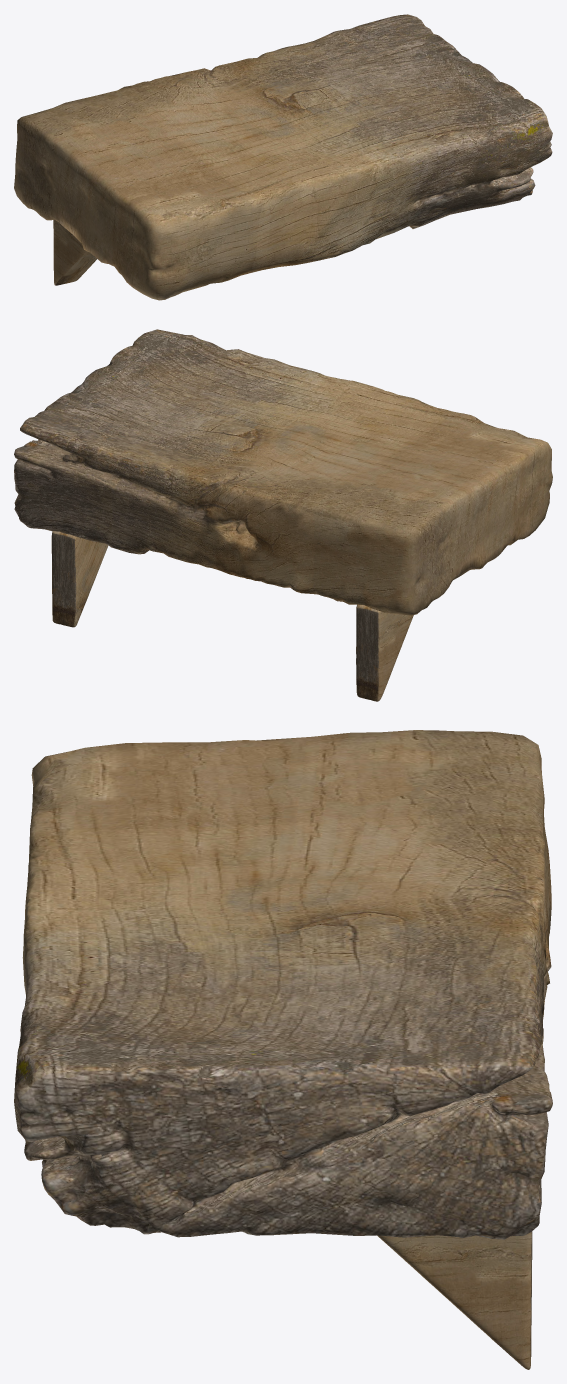
Rendered from chunkyboi.glb.
3 views of the same model, one above another, from view 1: azimuth 30°, elevation 25°; view 2: azimuth 150°, elevation 25°; view 3: azimuth 270°, elevation 25° (orthographic). The views are drawn at different scales.
Visible parts, largest first — view 1: Shelf_6, Peg_7; view 2: Shelf_6, Peg_7, Peg_8; view 3: Shelf_6, Peg_8.
Boxes of the visible parts, bbox=[...] form: Shelf_6: bbox=[14, 14, 552, 300]; Peg_7: bbox=[53, 219, 96, 285]; Shelf_6: bbox=[14, 329, 552, 615]; Peg_7: bbox=[356, 604, 413, 701]; Peg_8: bbox=[51, 531, 108, 627]; Shelf_6: bbox=[14, 730, 552, 1239]; Peg_8: bbox=[377, 1231, 532, 1369].
Size of the model in its own units: 1.29 by 0.5783 by 0.8331.
Materials: 1 (1 with a texture image).
